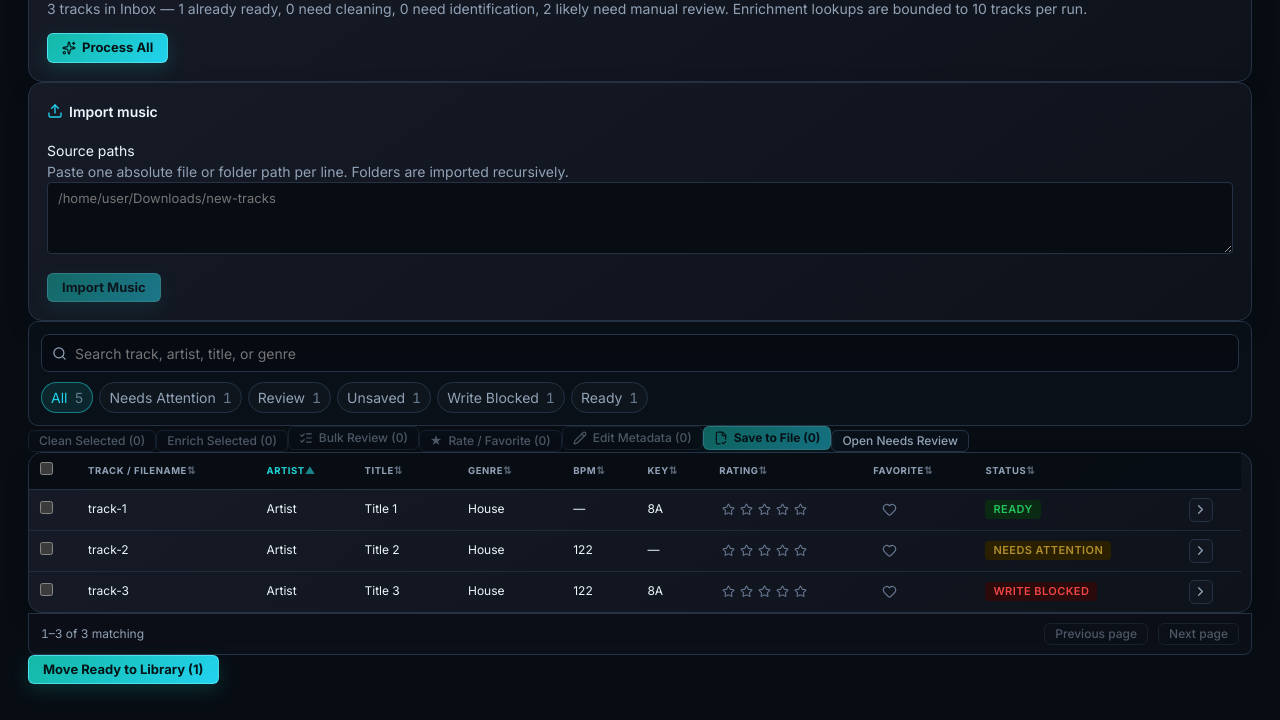
Test: Inbox filtering, selection, and inspector › opens a read-only inspector with reasons, warnings, write state, and destination
This screenshot has width=1280, height=720.
(page scrolled)
Click the button named "Inspect track-1.mp3": (1201, 510) [1189,498,1213,522]
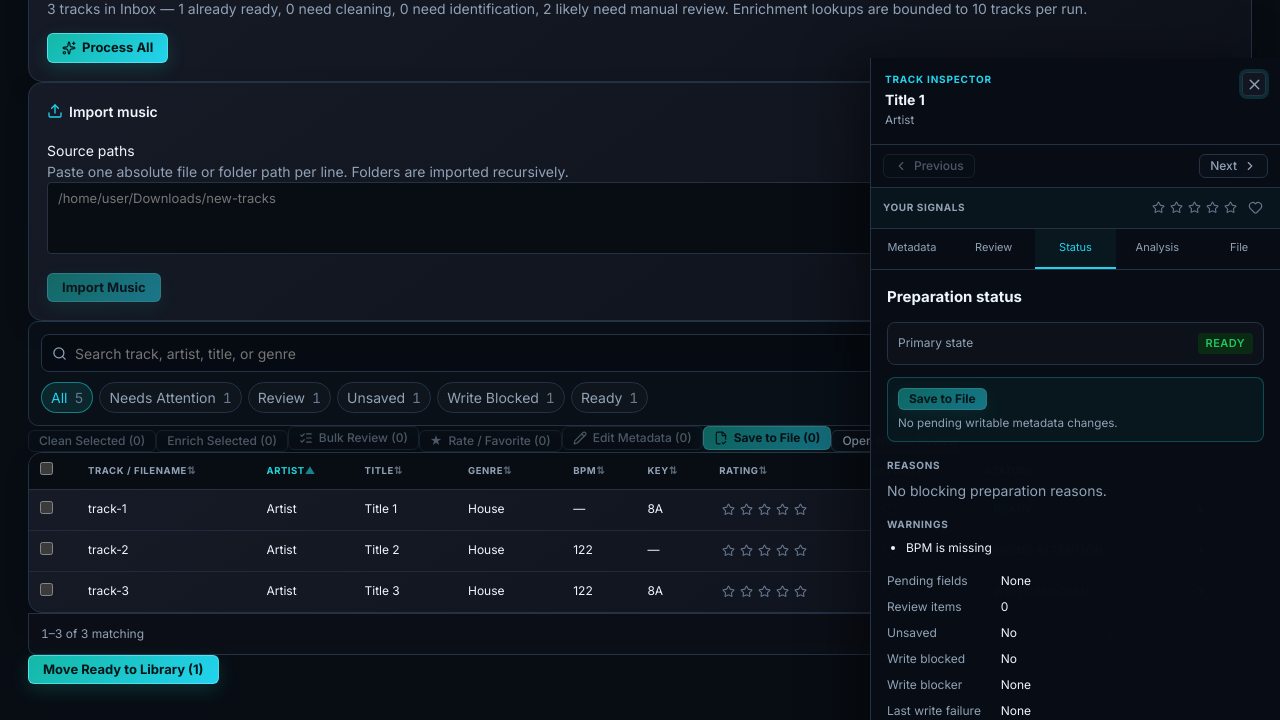
Expected: the text "Ready" is shown, [1198,333,1253,354]
Expected: the text "BPM is missing" is shown 2 times
Click the tab "File": (1239, 248) [1198,228,1279,268]
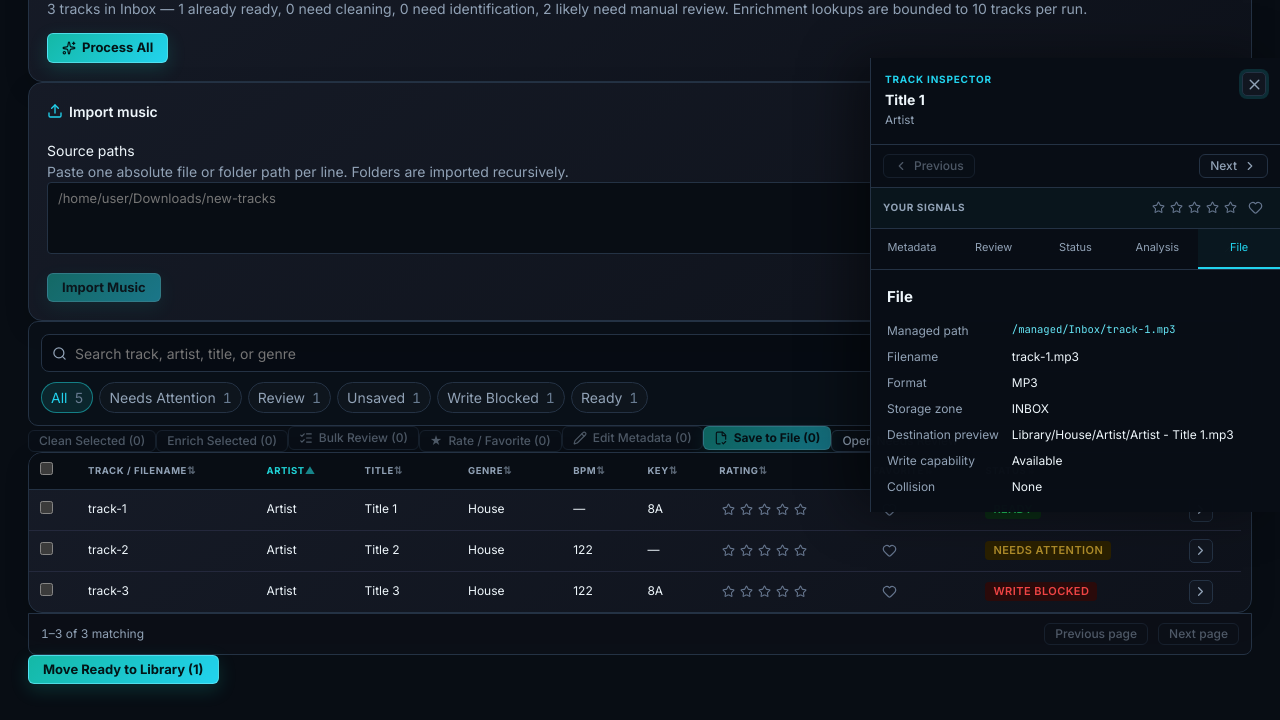
Expected: the text "/managed/Inbox/track-1.mp3" is shown, [1012,322,1176,336]
Expected: the text "Available" is shown, [1012,453,1062,468]
